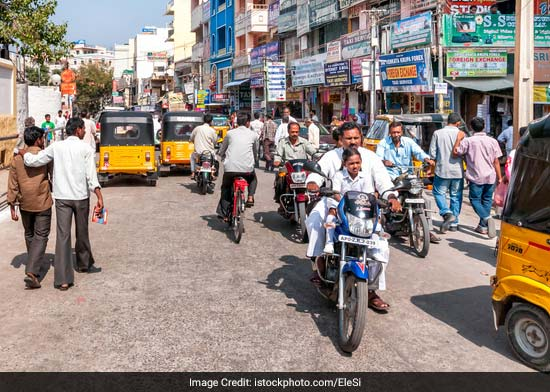bike: (318, 191, 381, 352), (227, 179, 248, 240)
person: (52, 119, 103, 291), (8, 128, 49, 288), (308, 123, 391, 198), (429, 114, 466, 232), (466, 116, 500, 236), (213, 114, 259, 183)
